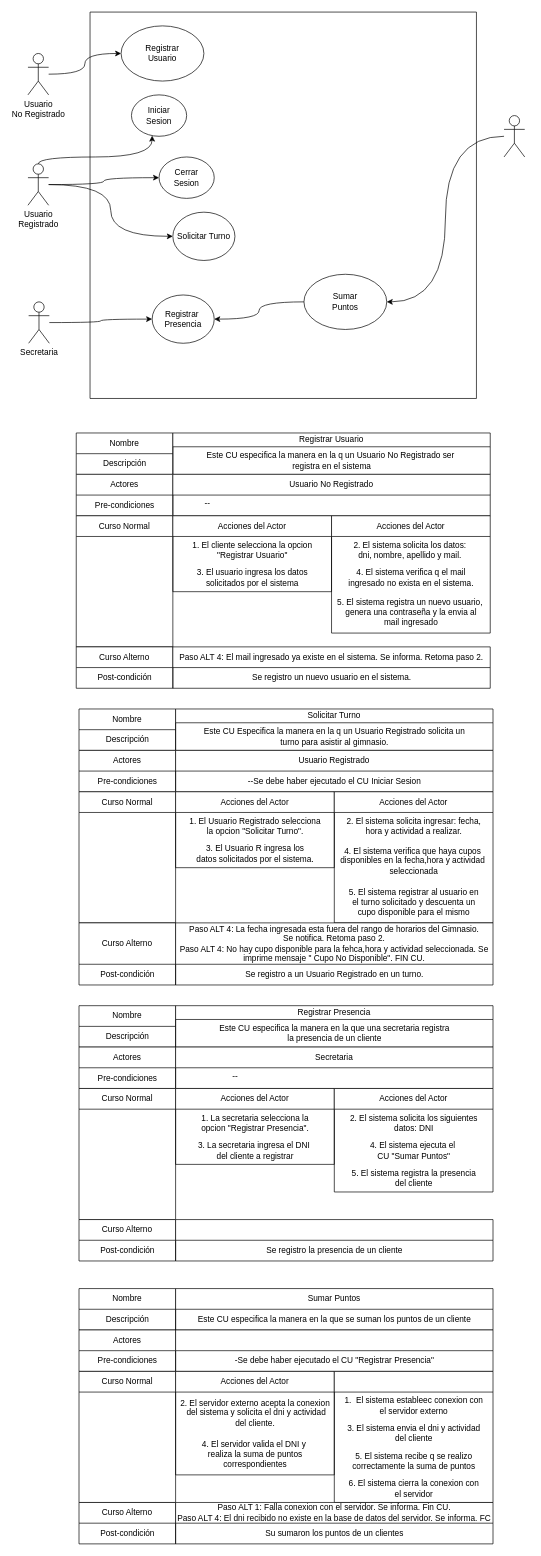
This 541x1556 diagram has some shape labels left out. Here are the shapes that lost their labels. From the top down, the box of each, then its label:
(503, 115, 525, 157): Sistema Externo
(175, 1219, 493, 1261): Paso ALT 4: Falla en la suma de Puntos. Se informa. Fin CU
(175, 1329, 493, 1371): Servidor Externo
(334, 1371, 493, 1502): Acciones del Sistema
